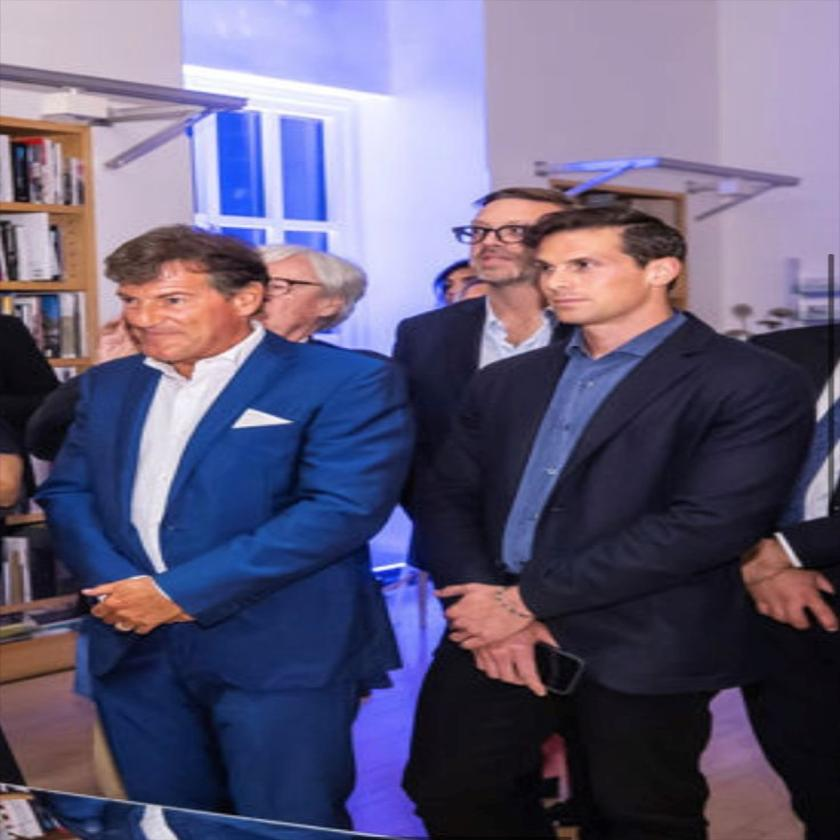Sin_casco: (520, 204, 698, 348), (100, 222, 276, 365), (459, 182, 573, 296)
